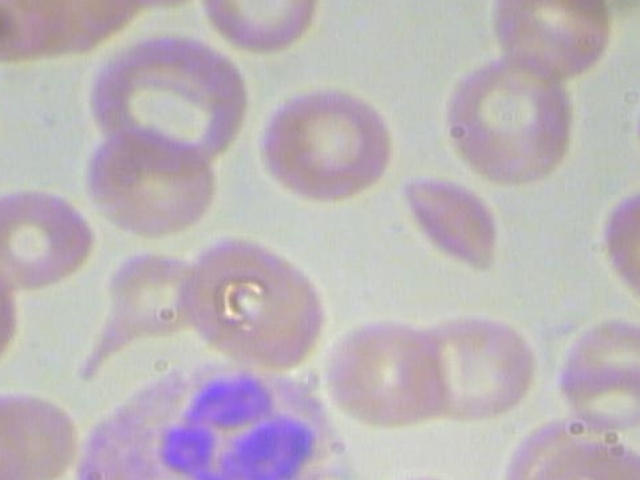WBC: (67, 356, 363, 480)
